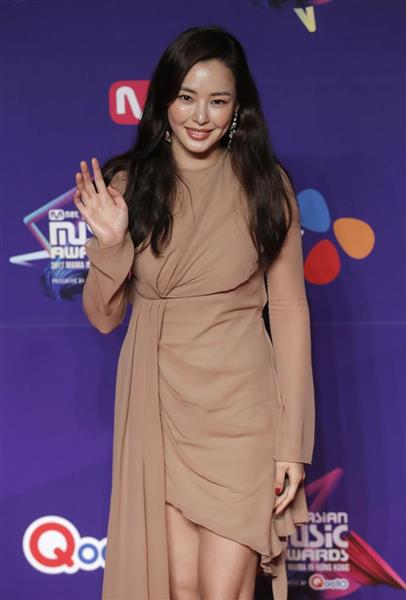face: (167, 56, 237, 154)
hand: (73, 157, 130, 245), (273, 460, 308, 517)
